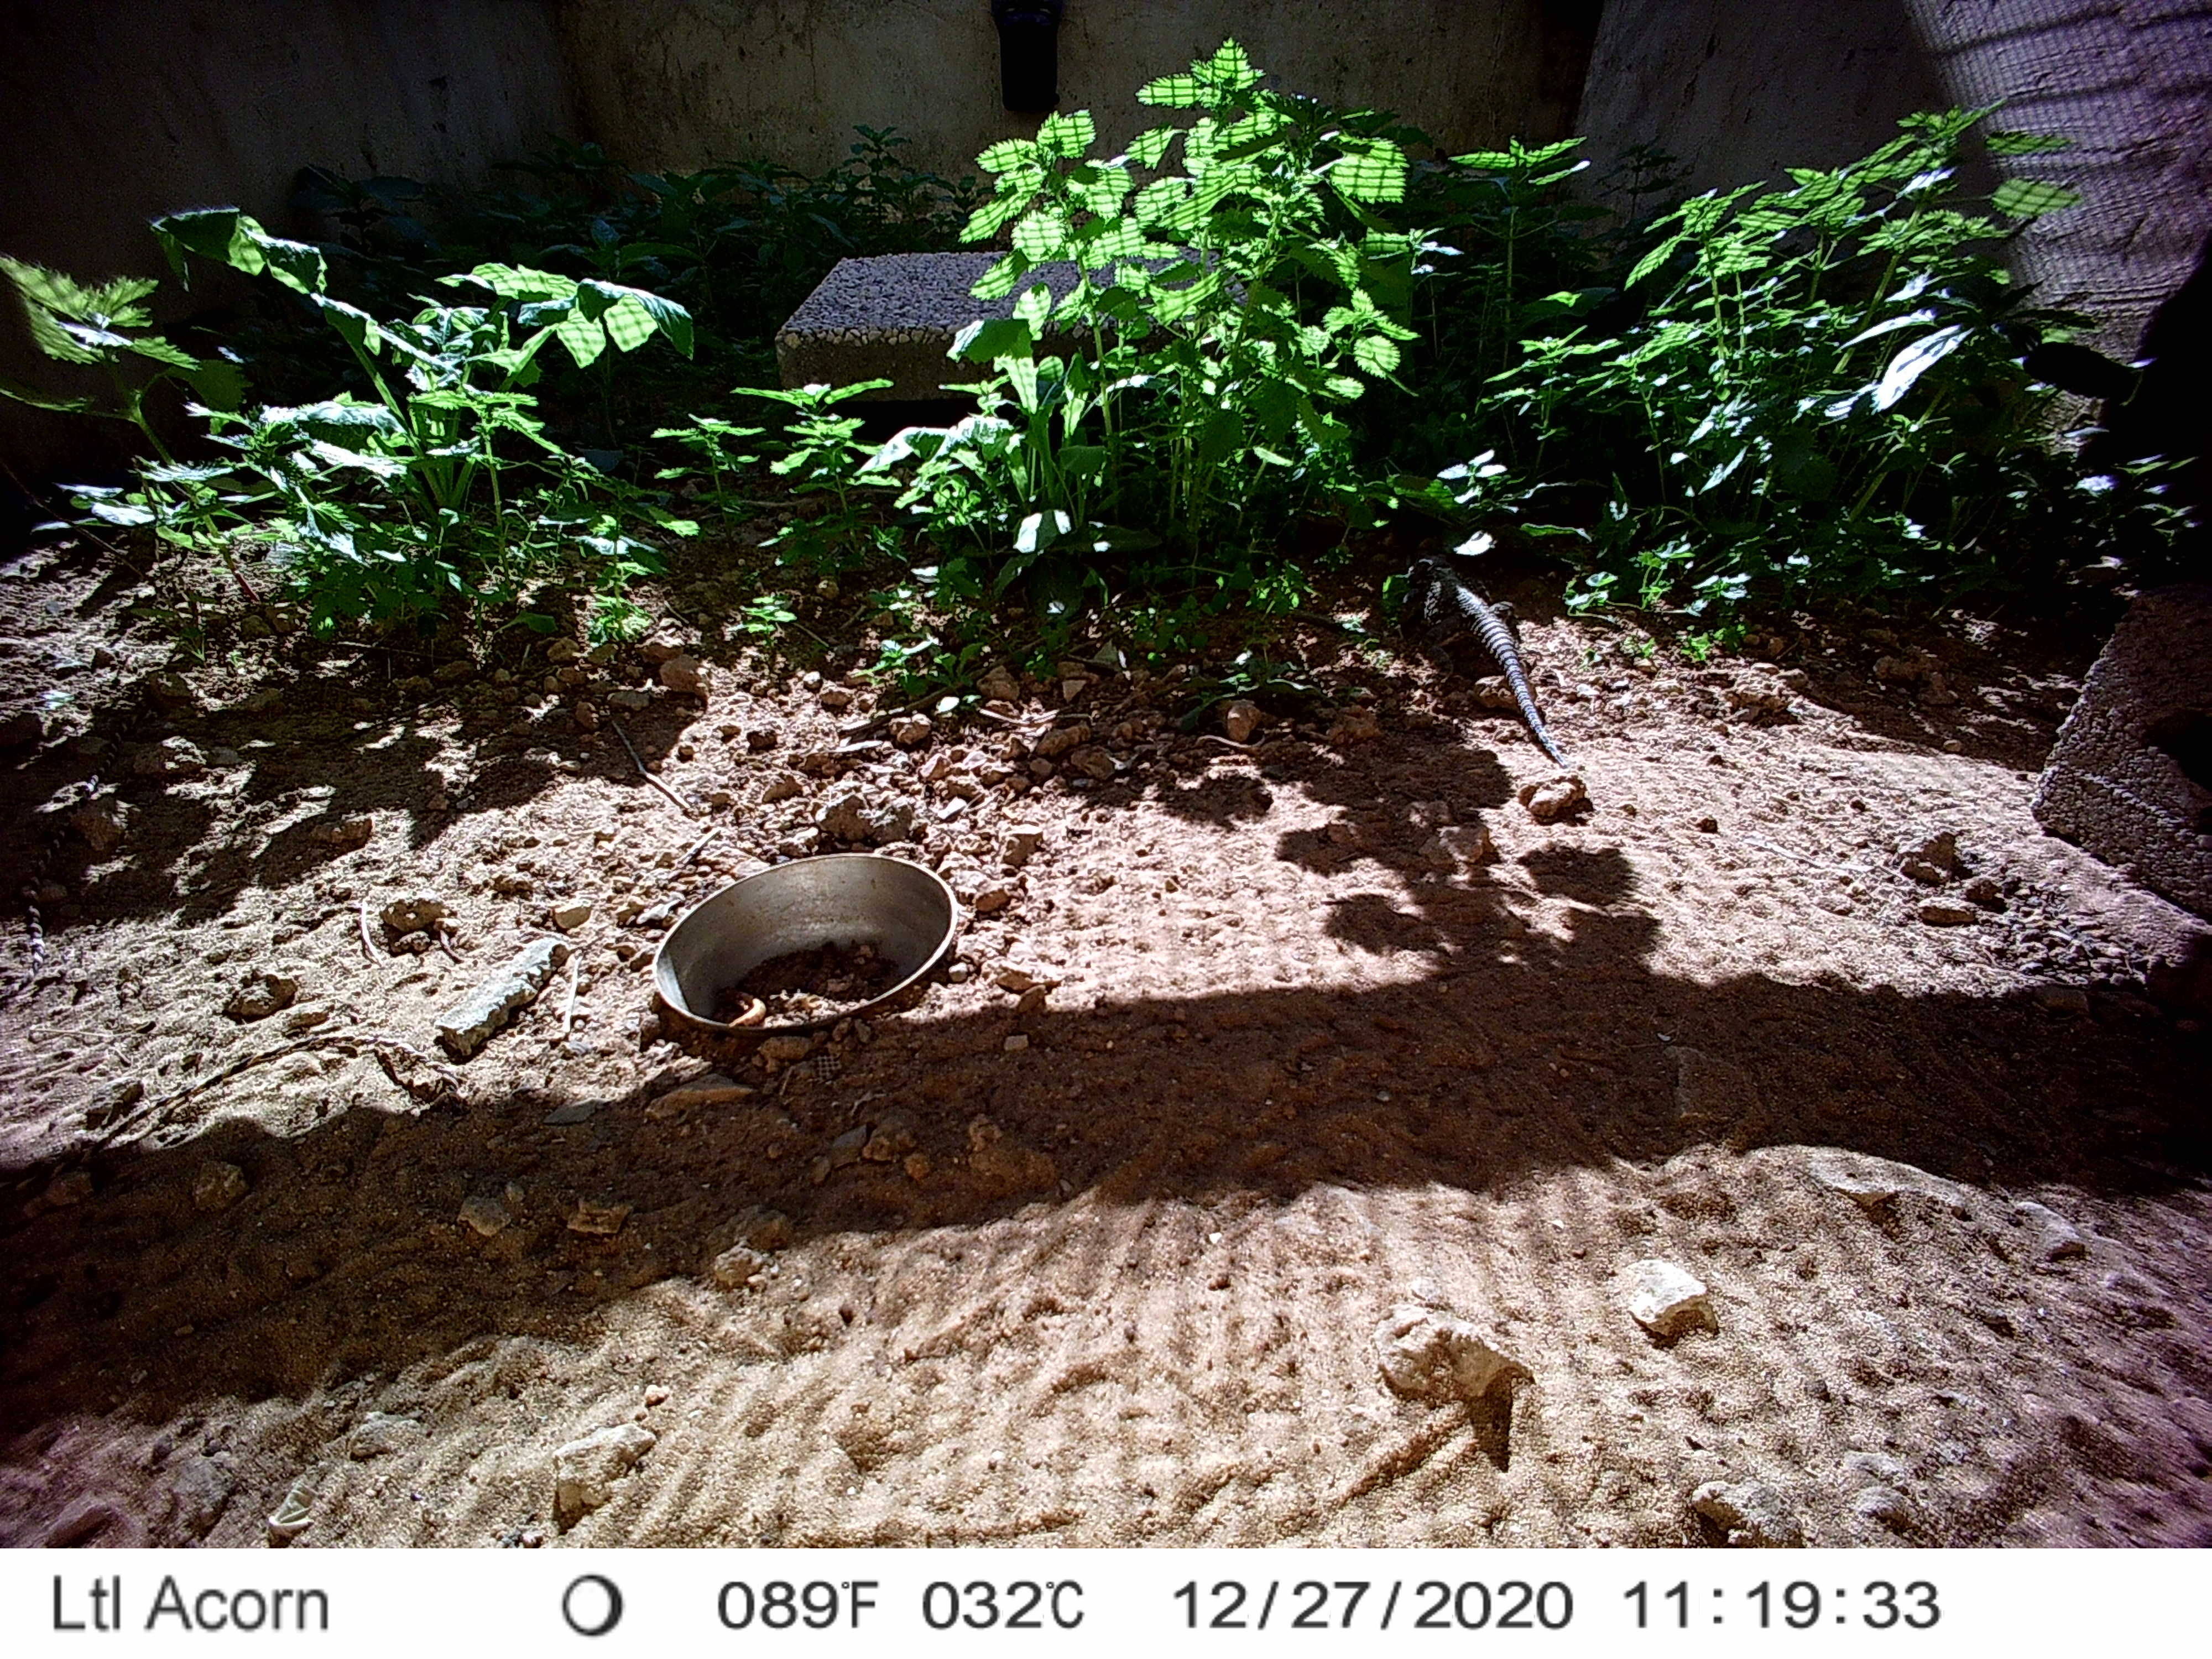lizard: (1360, 523, 1576, 767)
